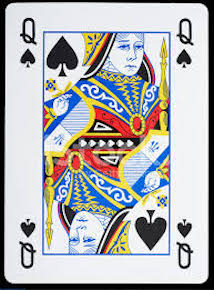QueenOfSpades: (3, 3, 213, 286)
